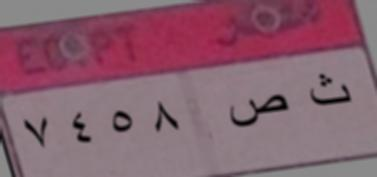4: (68, 102, 95, 152)
5: (106, 104, 138, 139)
7: (24, 109, 64, 156)
8: (147, 88, 182, 138)
saad: (228, 88, 291, 132)
thaa: (306, 71, 355, 112)
